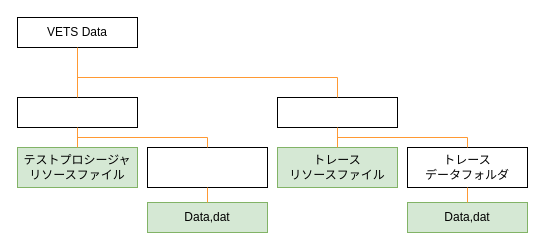
Some shapes in this 545 by 250 pixel diagram are drawn without their labels. Here are the shapes that lost their labels. From the top down, the centre of each, then its label:
At [77,112]: "Vetstestprocedures".
At [337,112]: "Vetstraces".
At [207,167]: "テストプロシージャ データフォルダ".
